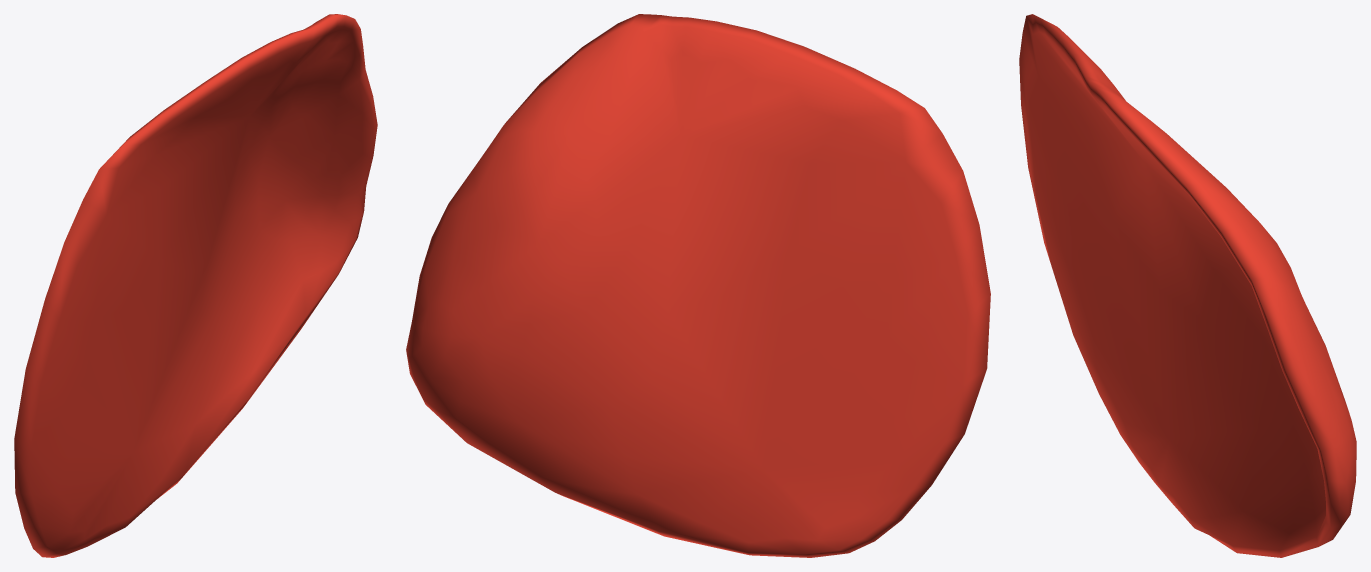
Rendered from Superior_gemellus_muscle-Ischiatic_insertion.r_Generated_Mesh_F.glb.
3 renders of one model, left to right at view 1: azimuth 30°, elevation 25°; view 2: azimuth 150°, elevation 25°; view 3: azimuth 270°, elevation 25°, orthographic. The views are drawn at different scales.
Parts seen in each view (by area): view 1: Superior_gemellus_muscle-Ischiatic_insertion.r_Generated_Mes; view 2: Superior_gemellus_muscle-Ischiatic_insertion.r_Generated_Mes; view 3: Superior_gemellus_muscle-Ischiatic_insertion.r_Generated_Mes.
Part boxes in pixels (x1=…): Superior_gemellus_muscle-Ischiatic_insertion.r_Generated_Mes: x1=14, y1=14, x2=377, y2=557; Superior_gemellus_muscle-Ischiatic_insertion.r_Generated_Mes: x1=406, y1=14, x2=990, y2=557; Superior_gemellus_muscle-Ischiatic_insertion.r_Generated_Mes: x1=1019, y1=14, x2=1356, y2=557.
Size of the model in its own units: 0.0128 by 0.0128 by 0.00744.
